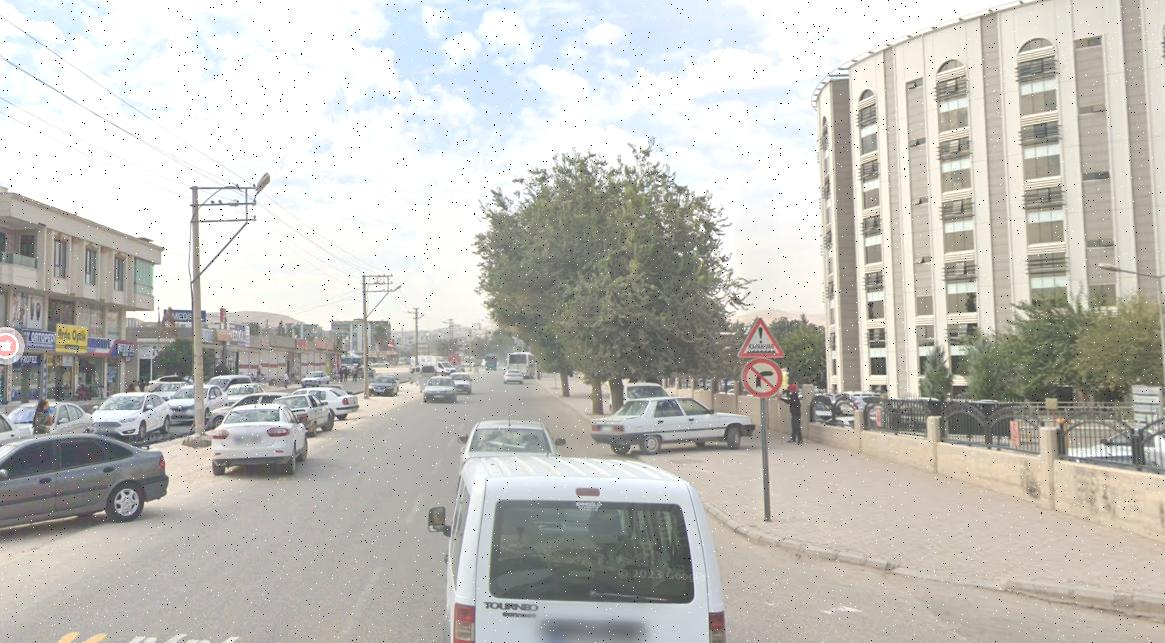rightturnsareforbidden: (746, 363, 783, 398)
